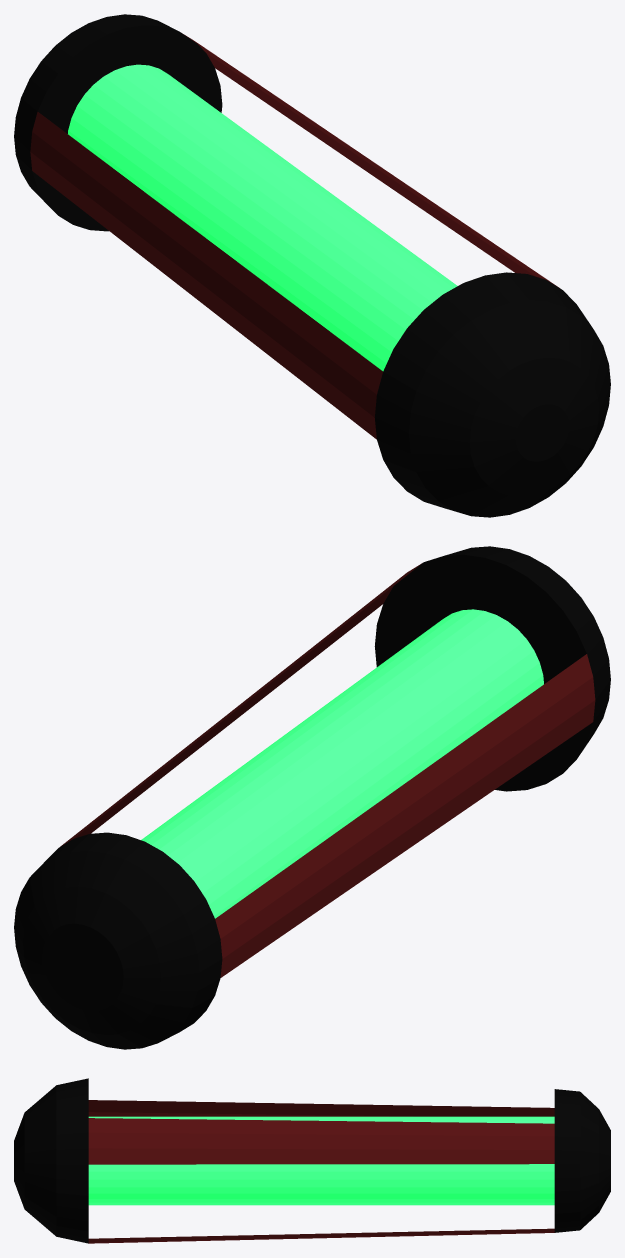
The model's file is fuelRod.fbx.
3 views of the same model, one above another, from view 1: azimuth 30°, elevation 25°; view 2: azimuth 150°, elevation 25°; view 3: azimuth 270°, elevation 25° (orthographic). The views are drawn at different scales.
Visible parts, largest first — view 1: fuel rod; view 2: fuel rod; view 3: fuel rod.
Part boxes in pixels (box(x1,y1,x2,y2)): fuel rod: box(14, 14, 610, 517); fuel rod: box(14, 546, 610, 1049); fuel rod: box(14, 1078, 610, 1243).
Size of the model in its own units: 8.46 by 8.46 by 30.53.
